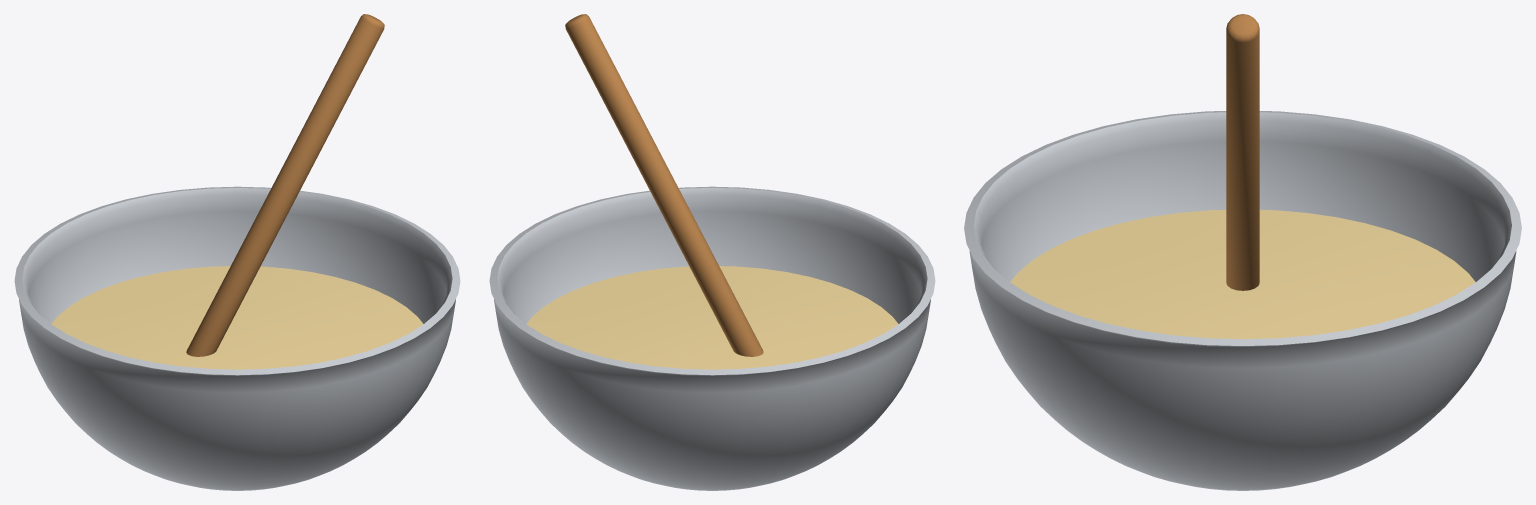
Rendered from Batter_Bowl.fbx.
3 renders of one model, left to right at view 1: azimuth 30°, elevation 25°; view 2: azimuth 150°, elevation 25°; view 3: azimuth 270°, elevation 25°, orthographic. The views are drawn at different scales.
Visible parts, largest first — view 1: Batter_Bowl; view 2: Batter_Bowl; view 3: Batter_Bowl.
Part boxes in pixels (x1,y1,x2,y2): Batter_Bowl: (14, 14, 460, 490); Batter_Bowl: (489, 14, 935, 490); Batter_Bowl: (964, 14, 1521, 490).
Bounding box in the file's own units: 0.183 × 0.184 × 0.183.
